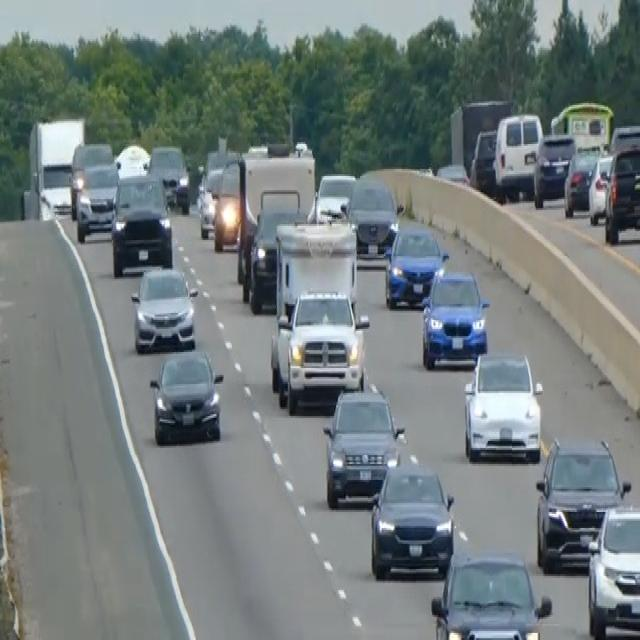car: (534, 434, 630, 572), (430, 548, 552, 638), (369, 457, 455, 579), (322, 384, 406, 507), (461, 345, 544, 464), (246, 187, 307, 311), (148, 347, 224, 446), (420, 265, 490, 370), (586, 502, 639, 638), (110, 170, 173, 276), (129, 263, 198, 354), (383, 220, 448, 308), (71, 140, 119, 240), (492, 110, 543, 201), (345, 174, 400, 256), (604, 140, 639, 244), (532, 130, 576, 208), (212, 154, 243, 252), (148, 142, 190, 214), (563, 146, 599, 217), (310, 171, 356, 224), (469, 126, 497, 194), (587, 151, 613, 224), (198, 166, 223, 238), (113, 140, 150, 180), (609, 121, 639, 153), (435, 160, 469, 187)
lorry: (26, 114, 86, 218)
truck: (268, 217, 369, 412)
